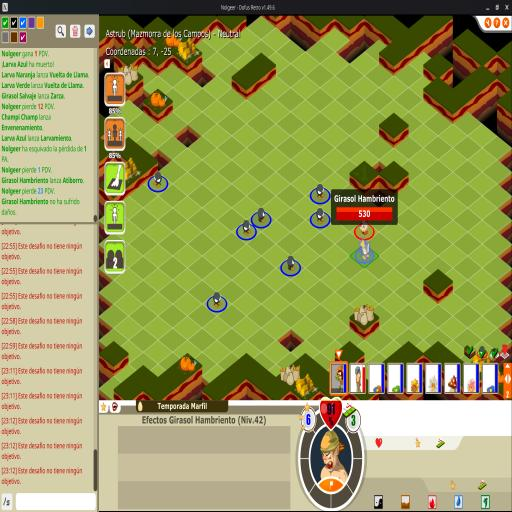Enemigos: (357, 238, 371, 262), (152, 171, 164, 189), (286, 254, 298, 272), (242, 219, 253, 237), (212, 291, 222, 309), (316, 183, 326, 200), (316, 207, 326, 224), (257, 207, 266, 223)
Personaje: (359, 219, 370, 236)
